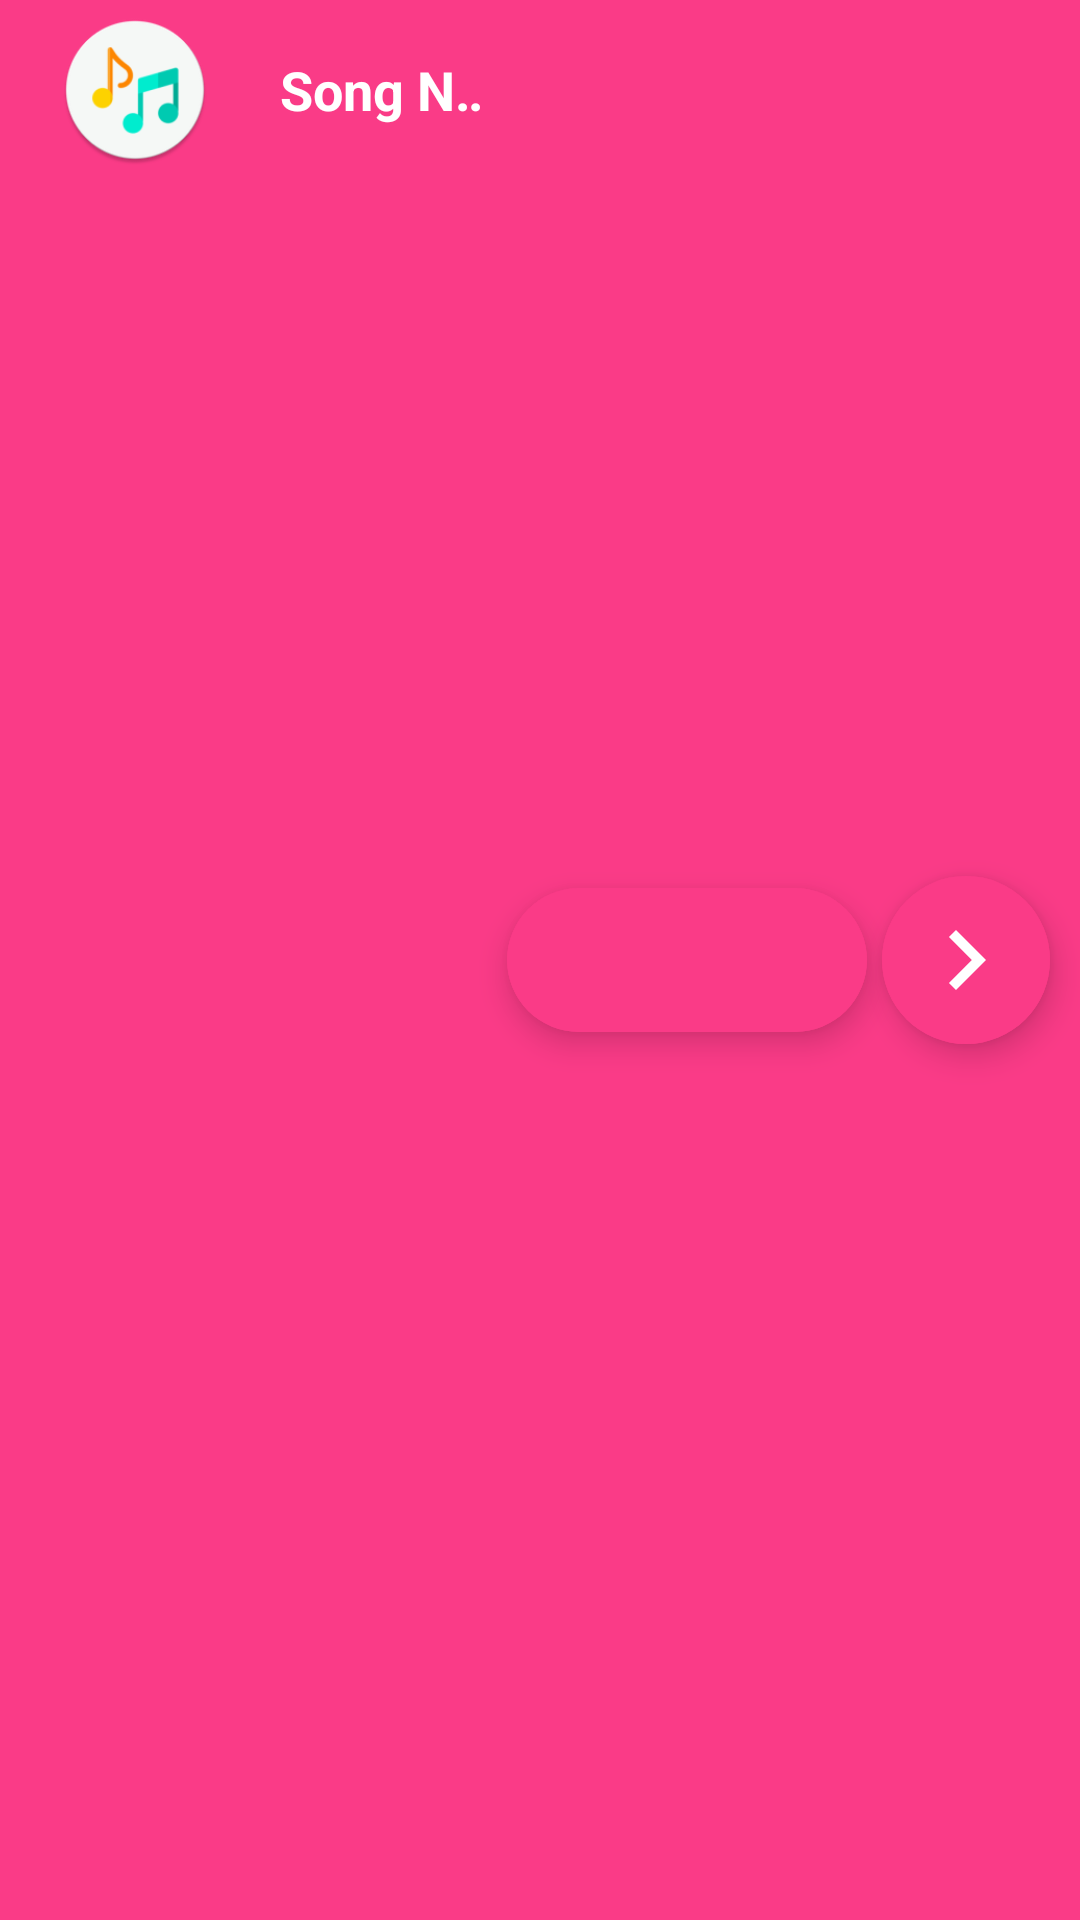

Screen size 1080px×1920px. Icon name, then its center in pixels as [x,y]:
music player round: [135,91]
next: [965,967]
